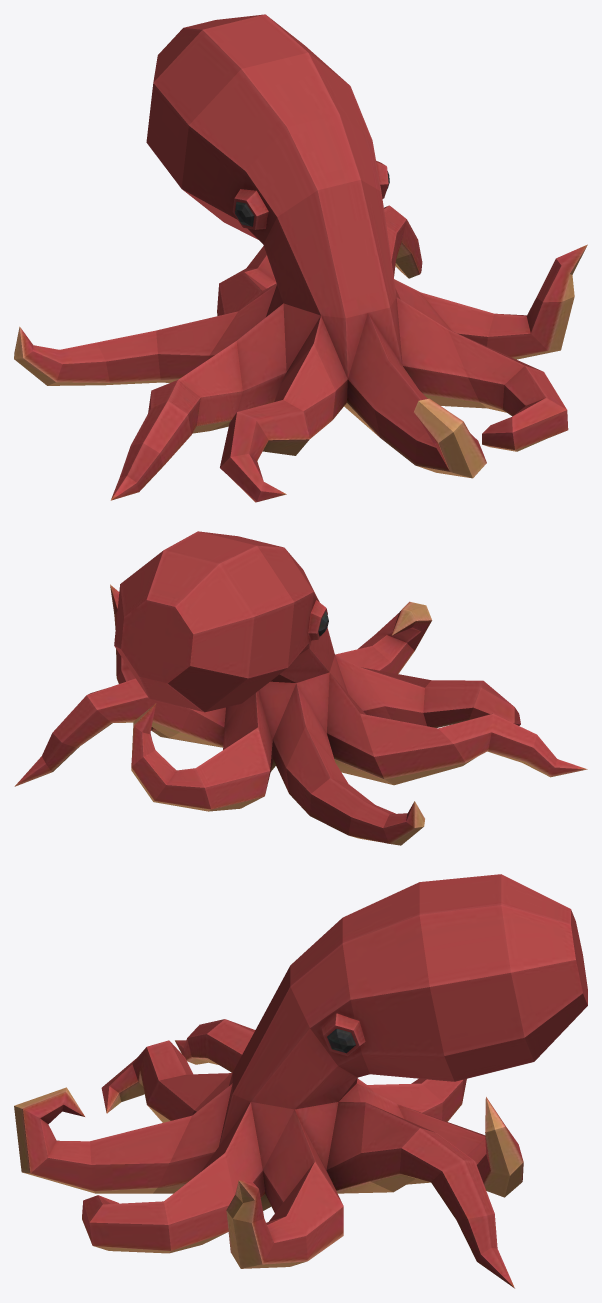
File: pulpo.glb
3 views of the same model, one above another, from view 1: azimuth 30°, elevation 25°; view 2: azimuth 150°, elevation 25°; view 3: azimuth 270°, elevation 25° (orthographic). The views are drawn at different scales.
Visible parts, largest first — view 1: Octopus_mesh; view 2: Octopus_mesh; view 3: Octopus_mesh.
Part boxes in pixels (x1=…): Octopus_mesh: x1=14, y1=14, x2=587, y2=502; Octopus_mesh: x1=14, y1=531, x2=587, y2=845; Octopus_mesh: x1=14, y1=874, x2=587, y2=1288.
Bounding box in the file's own units: 17.74 × 10.08 × 17.24.
Materials: 1 (1 with a texture image).
